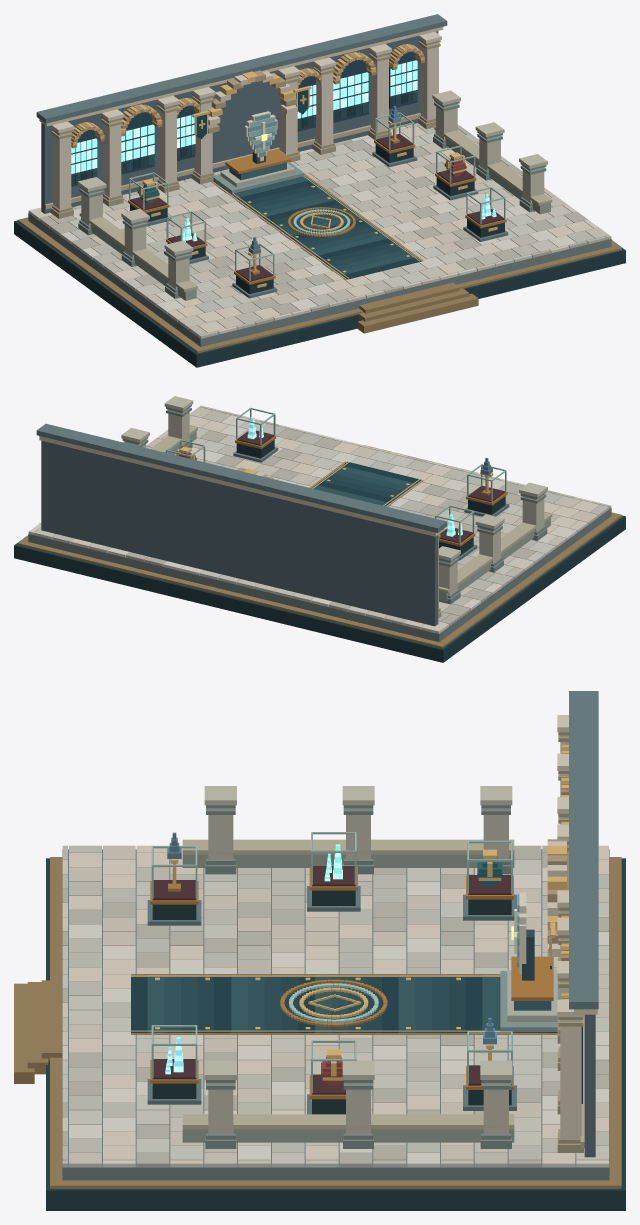
File: preview-silver-shield-exhibition.glb
3 renders of one model, top to bottom at view 1: azimuth 30°, elevation 25°; view 2: azimuth 150°, elevation 25°; view 3: azimuth 270°, elevation 25°, orthographic. The views are drawn at different scales.
Visible parts, largest first — view 1: Paving, Gallery_Columns, Miniature_Plinth, Side_Colonnade, Gallery_Wall, Teal_Runner, Gallery_Cornice, Stained_Glass (×2), Bedrock, Silver_Shield, Windows, Miniature_Entry (+9 smaller); view 2: Gallery_Wall, Paving, Miniature_Plinth, Gallery_Cornice, Side_Colonnade, Bedrock, Teal_Runner, Display_Crystals, Display_Scepter, Vitrine_Trim; view 3: Paving, Side_Colonnade, Miniature_Plinth, Teal_Runner, Bedrock, Gallery_Cornice, Brass_Inlay, Gallery_Columns, Silver_Shield, Display_Crystals (×2), Display_Vase, Miniature_Entry (+4 smaller).
Part boxes in pixels (left/top/right/bottom): Paving: left=28, top=123, right=611, bottom=338; Gallery_Columns: left=50, top=32, right=441, bottom=218; Miniature_Plinth: left=14, top=217, right=625, bottom=367; Side_Colonnade: left=78, top=90, right=552, bottom=300; Gallery_Wall: left=41, top=31, right=438, bottom=213; Teal_Runner: left=213, top=175, right=421, bottom=279; Gallery_Cornice: left=36, top=14, right=447, bottom=126; Stained_Glass (×2): left=71, top=60, right=417, bottom=184; Bedrock: left=28, top=213, right=611, bottom=346; Silver_Shield: left=213, top=111, right=304, bottom=193; Windows: left=71, top=51, right=417, bottom=186; Miniature_Entry: left=357, top=282, right=478, bottom=333; Gallery_Wall: left=41, top=440, right=438, bottom=626; Paving: left=28, top=405, right=611, bottom=633; Miniature_Plinth: left=14, top=512, right=625, bottom=662; Gallery_Cornice: left=36, top=423, right=447, bottom=536; Side_Colonnade: left=121, top=396, right=552, bottom=604; Bedrock: left=28, top=508, right=611, bottom=641; Teal_Runner: left=311, top=461, right=421, bottom=506; Display_Crystals: left=233, top=430, right=477, bottom=560; Display_Scepter: left=464, top=457, right=509, bottom=516; Vitrine_Trim: left=166, top=407, right=506, bottom=542; Paving: left=62, top=845, right=608, bottom=1167; Side_Colonnade: left=182, top=786, right=514, bottom=1148; Miniature_Plinth: left=46, top=857, right=625, bottom=1210; Teal_Runner: left=131, top=975, right=557, bottom=1033; Bedrock: left=62, top=849, right=609, bottom=1180; Gallery_Cornice: left=569, top=691, right=598, bottom=1014; Brass_Inlay: left=131, top=974, right=557, bottom=1034; Gallery_Columns: left=557, top=715, right=584, bottom=1152; Silver_Shield: left=500, top=892, right=560, bottom=1031; Display_Crystals (×2): left=147, top=844, right=360, bottom=1104; Display_Vase: left=307, top=849, right=516, bottom=1114; Miniature_Entry: left=14, top=980, right=62, bottom=1083.
Bounding box in the file's own units: 9.14 × 2.57 × 7.11.
